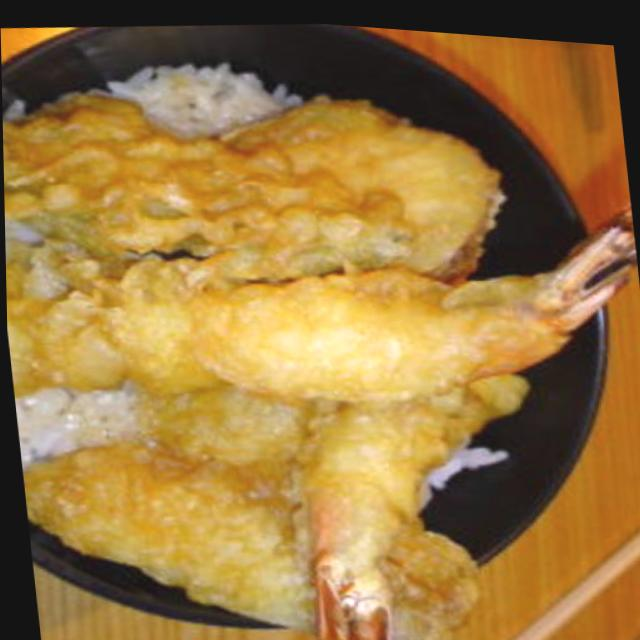熟制海鲜: (0, 0, 637, 527)
